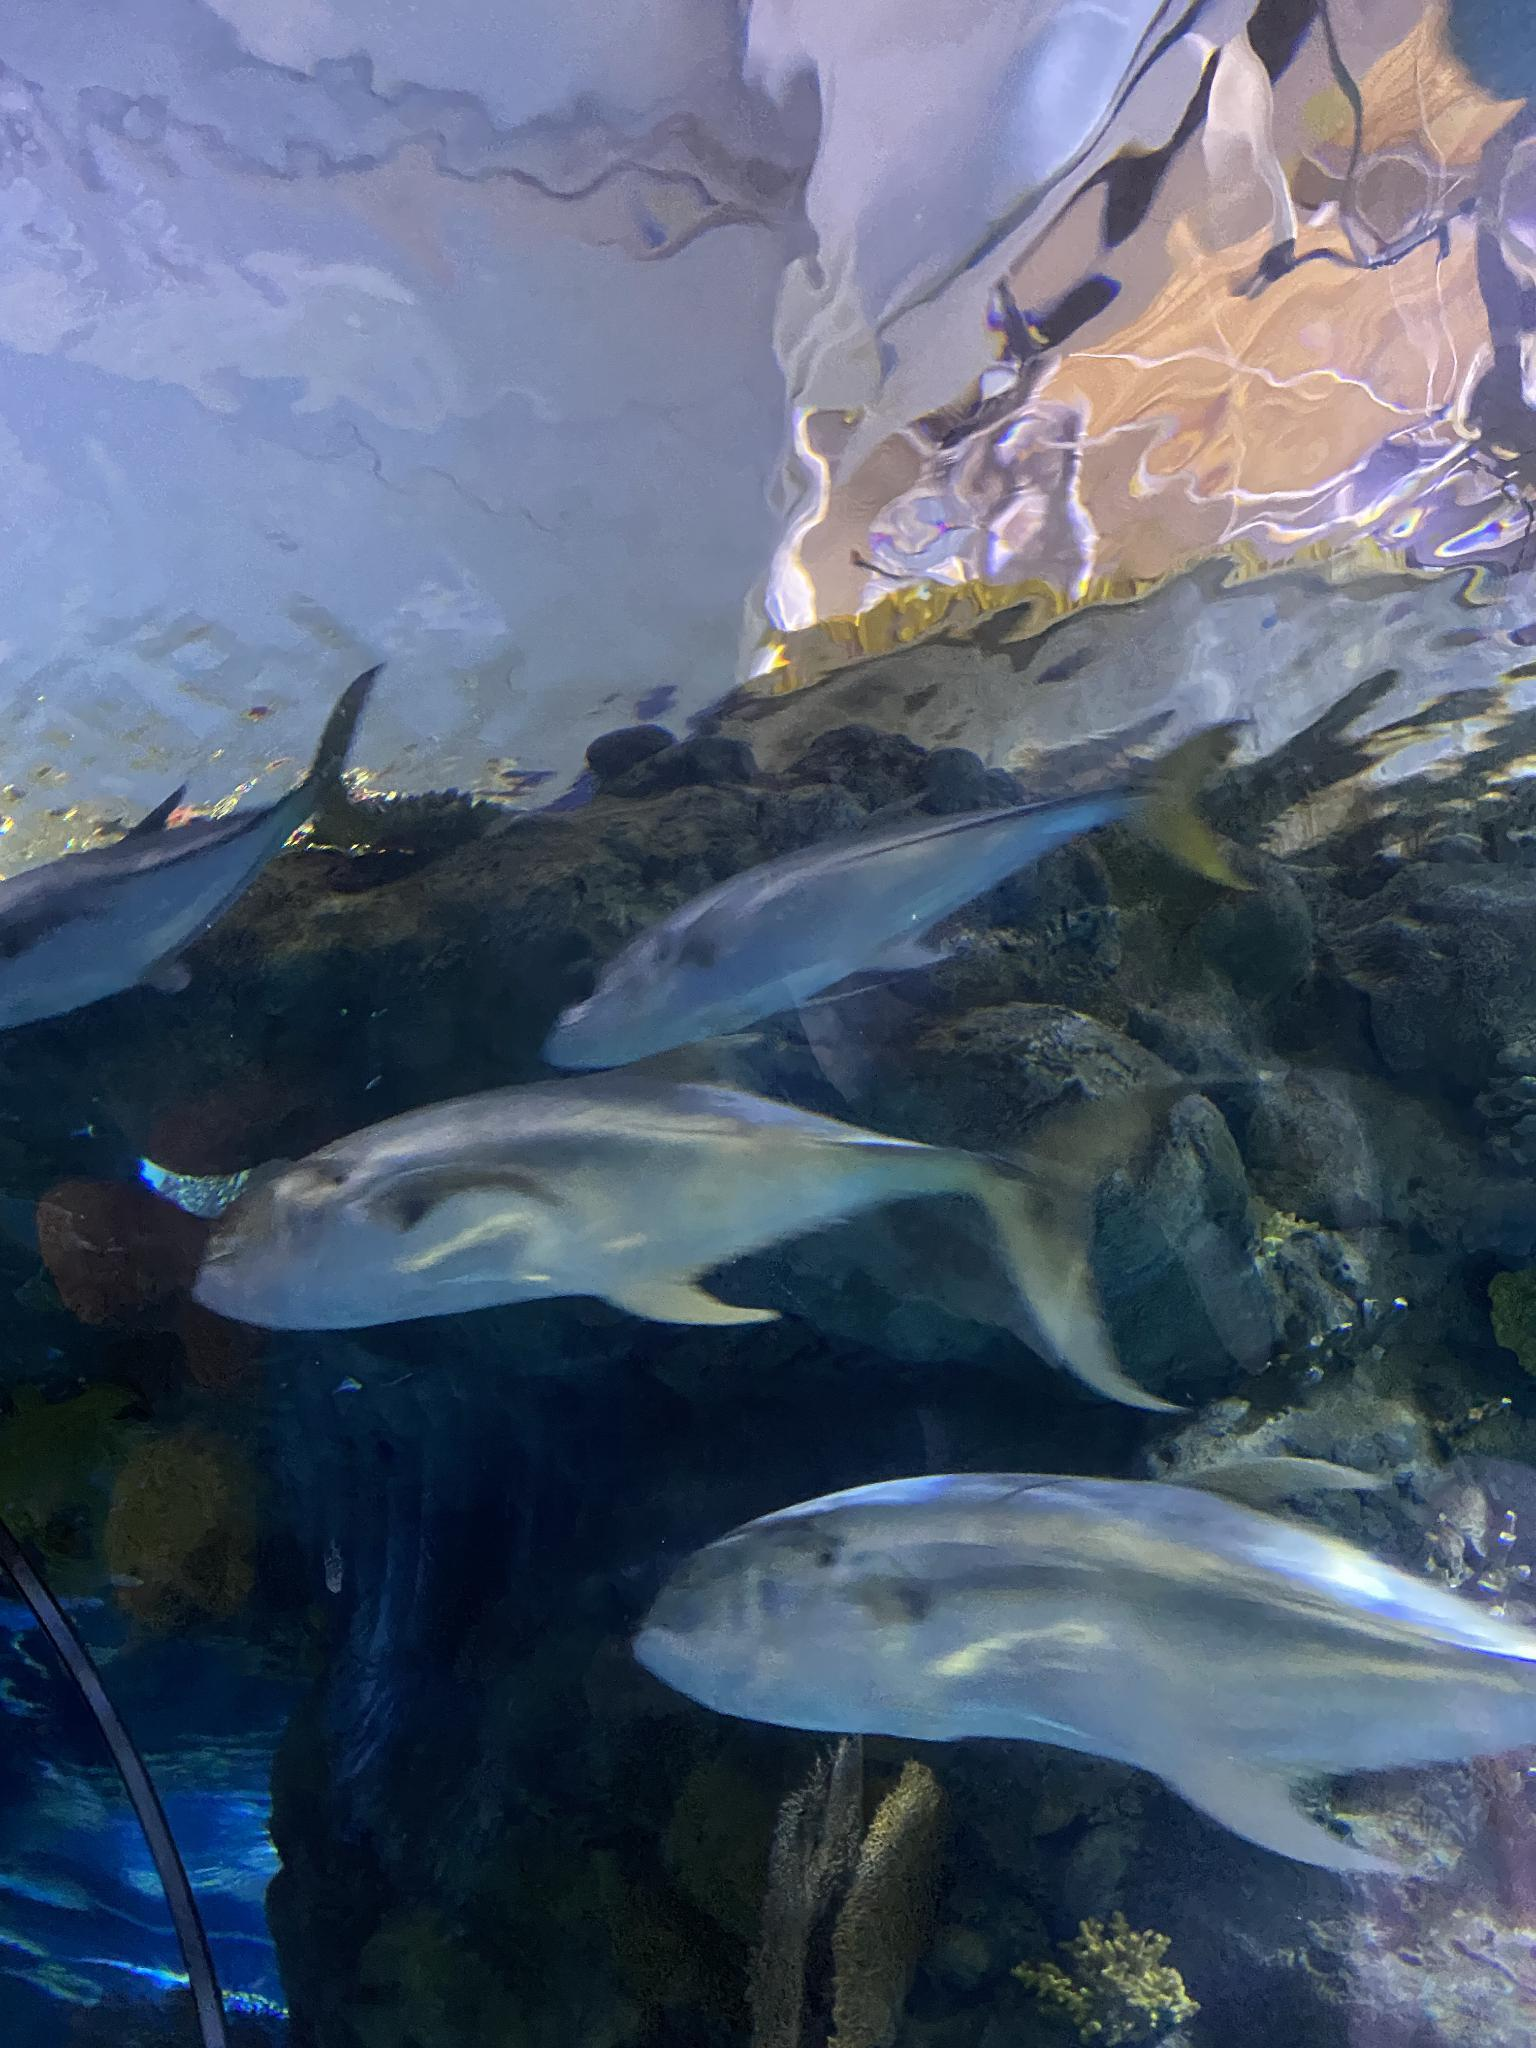fish: (655, 1435, 1534, 1896), (202, 1042, 1228, 1435), (544, 769, 1213, 1061), (0, 700, 413, 1034)
